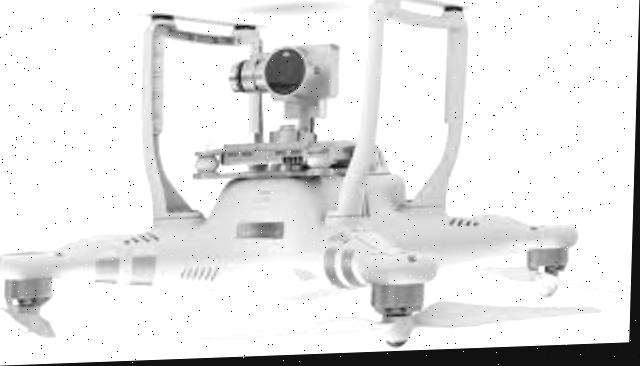drone: (0, 0, 640, 344)
